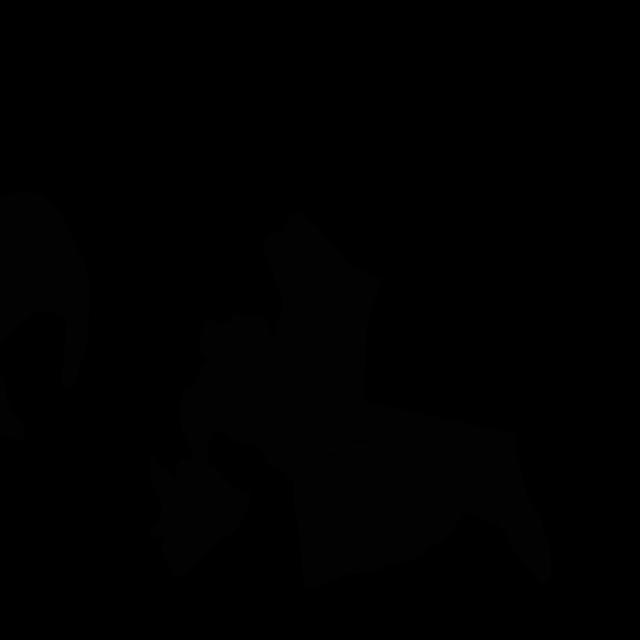cardboard: (262, 212, 517, 495), (150, 311, 297, 578), (292, 438, 552, 588), (0, 190, 90, 391), (0, 374, 26, 440)
